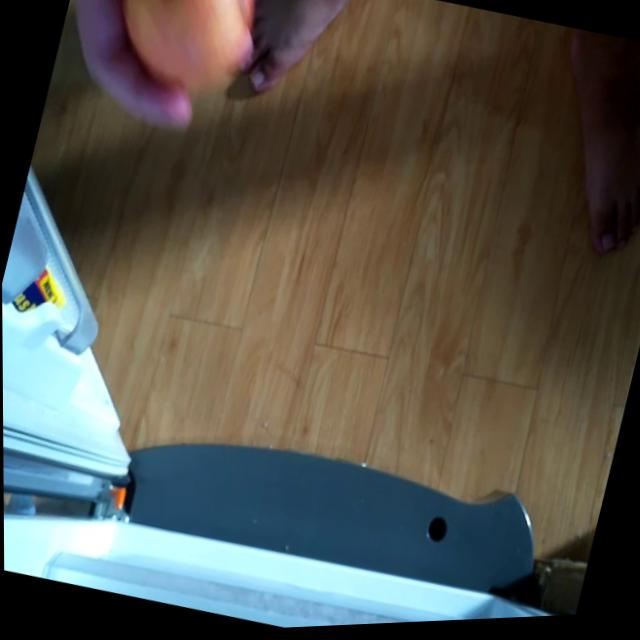apple: (102, 0, 267, 102)
